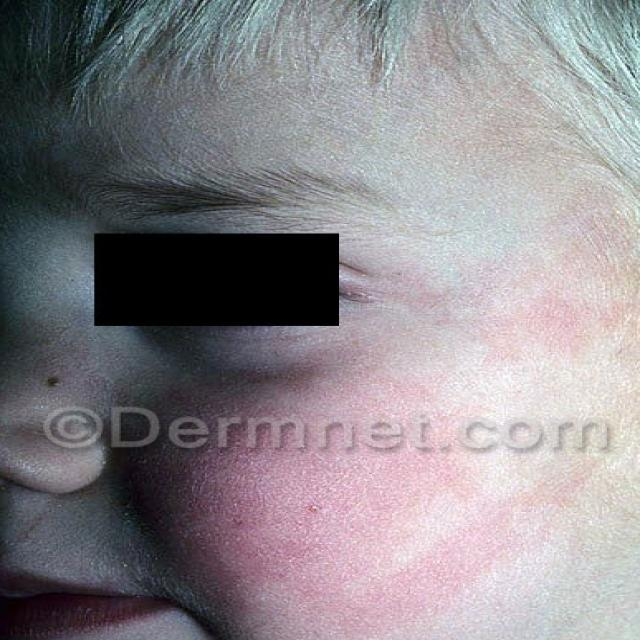Vascular Tumors: (74, 365, 630, 619)
